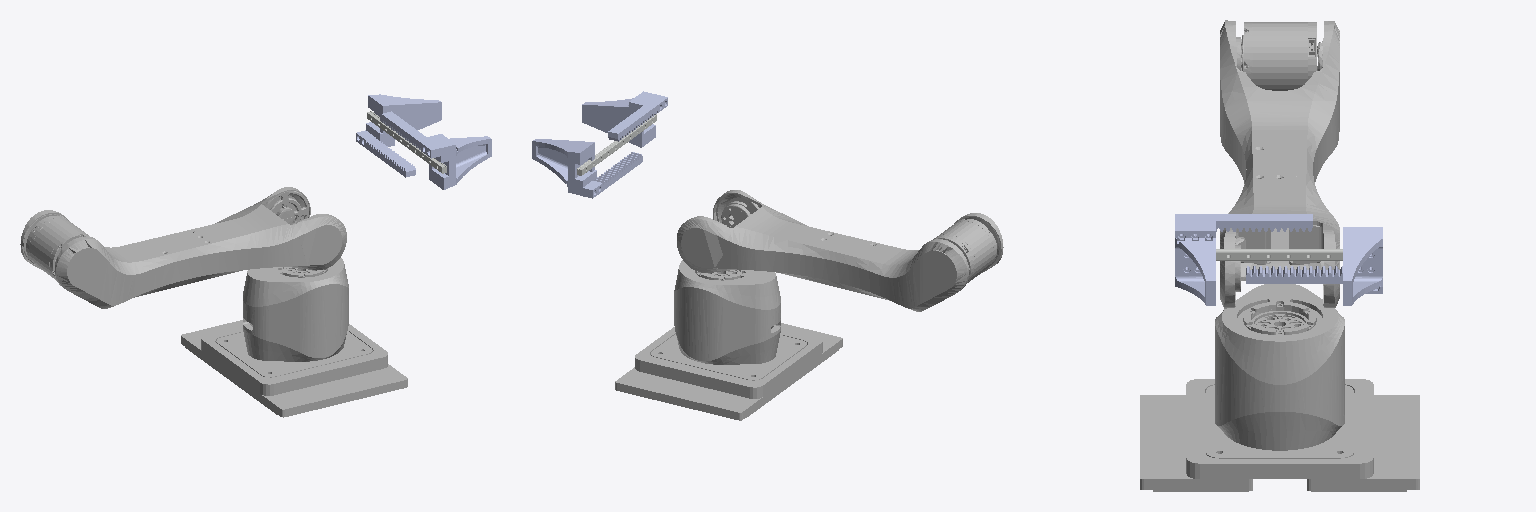
URDF robot description (alicia_m_v1_1_gripper_100mm):
<?xml version="1.0" encoding="utf-8"?>
<!-- This URDF was automatically created by SolidWorks to URDF Exporter! Originally created by Stephen Brawner (brawner@gmail.com) 
     Commit Version: 1.6.0-4-g7f85cfe  Build Version: 1.6.7995.38578
     For more information, please see http://wiki.ros.org/sw_urdf_exporter -->
<robot
  name="alicia_m_v1_1_gripper_100mm">
   <mujoco>
    <compiler meshdir="../../meshes/Alicia_M_v1_1" discardvisual="false" />
  </mujoco>
  <link
    name="base_link">
    <inertial>
      <origin
        xyz="-0.0074155 8.4202E-06 0.038118"
        rpy="0 0 0" />
      <mass
        value="2.5385" />
      <inertia
        ixx="0.0058527"
        ixy="2.114E-07"
        ixz="1.4479E-06"
        iyy="0.0045151"
        iyz="3.0868E-08"
        izz="0.0084155" />
    </inertial>
    <visual>
      <origin
        xyz="0 0 0"
        rpy="0 0 0" />
      <geometry>
        <mesh
          filename="../../meshes/Alicia_M_v1_1/base_link.STL" />
      </geometry>
      <material
        name="">
        <color
          rgba="0.75294 0.75294 0.75294 1" />
      </material>
    </visual>
    <collision>
      <origin
        xyz="0 0 0"
        rpy="0 0 0" />
      <geometry>
        <mesh
          filename="../../meshes/Alicia_M_v1_1/base_link.STL" />
      </geometry>
    </collision>
  </link>
  <link
    name="link1">
    <inertial>
      <origin
        xyz="0.00037898 -0.0010139 0.039387"
        rpy="0 0 0" />
      <mass
        value="0.54365" />
      <inertia
        ixx="0.00018974"
        ixy="-3.0439E-07"
        ixz="-2.5092E-07"
        iyy="0.00022251"
        iyz="4.4259E-07"
        izz="0.0002033" />
    </inertial>
    <visual>
      <origin
        xyz="0 0 0"
        rpy="0 0 0" />
      <geometry>
        <mesh
          filename="../../meshes/Alicia_M_v1_1/link1.STL" />
      </geometry>
      <material
        name="">
        <color
          rgba="0.75294 0.75294 0.75294 1" />
      </material>
    </visual>
    <collision>
      <origin
        xyz="0 0 0"
        rpy="0 0 0" />
      <geometry>
        <mesh
          filename="../../meshes/Alicia_M_v1_1/link1.STL" />
      </geometry>
    </collision>
  </link>
  <joint
    name="joint1"
    type="revolute">
    <origin
      xyz="0 0 0.10705"
      rpy="0 0 0" />
    <parent
      link="base_link" />
    <child
      link="link1" />
    <axis
      xyz="0 0 -1" />
    <limit
      lower="-2.75"
      upper="2.75"
      effort="5"
      velocity="10" />
  </joint>
  <link
    name="link2">
    <inertial>
      <origin
        xyz="-0.19722 0.016179 0.00075589"
        rpy="0 0 0" />
      <mass
        value="1.1153" />
      <inertia
        ixx="0.00057637"
        ixy="0.00022961"
        ixz="-1.956E-07"
        iyy="0.0033441"
        iyz="6.7003E-07"
        izz="0.0032279" />
    </inertial>
    <visual>
      <origin
        xyz="0 0 0"
        rpy="0 0 0" />
      <geometry>
        <mesh
          filename="../../meshes/Alicia_M_v1_1/link2.STL" />
      </geometry>
      <material
        name="">
        <color
          rgba="0.75294 0.75294 0.75294 1" />
      </material>
    </visual>
    <collision>
      <origin
        xyz="0 0 0"
        rpy="0 0 0" />
      <geometry>
        <mesh
          filename="../../meshes/Alicia_M_v1_1/link2.STL" />
      </geometry>
    </collision>
  </link>
  <joint
    name="joint2"
    type="revolute">
    <origin
      xyz="0 0 0.046"
      rpy="1.5708 0 0" />
    <parent
      link="link1" />
    <child
      link="link2" />
    <axis
      xyz="0 0 -1" />
    <limit
      lower="0"
      upper="3.14"
      effort="5"
      velocity="10" />
  </joint>
  <link
    name="link3">
    <inertial>
      <origin
        xyz="0.026259 -0.064912 -0.00065987"
        rpy="0 0 0" />
      <mass
        value="0.4356" />
      <inertia
        ixx="0.00012982"
        ixy="9.5271E-06"
        ixz="-6.8812E-08"
        iyy="0.0001789"
        iyz="1.5081E-07"
        izz="0.00014855" />
    </inertial>
    <visual>
      <origin
        xyz="0 0 0"
        rpy="0 0 0" />
      <geometry>
        <mesh
          filename="../../meshes/Alicia_M_v1_1/link3.STL" />
      </geometry>
      <material
        name="">
        <color
          rgba="0.75294 0.75294 0.75294 1" />
      </material>
    </visual>
    <collision>
      <origin
        xyz="0 0 0"
        rpy="0 0 0" />
      <geometry>
        <mesh
          filename="../../meshes/Alicia_M_v1_1/link3.STL" />
      </geometry>
    </collision>
  </link>
  <joint
    name="joint3"
    type="revolute">
    <origin
      xyz="-0.28185 0.040324 0"
      rpy="0 0 1.5708" />
    <parent
      link="link2" />
    <child
      link="link3" />
    <axis
      xyz="0 0 -1" />
    <limit
      lower="-3.14"
      upper="0"
      effort="5"
      velocity="10" />
  </joint>
  <link
    name="link4">
    <inertial>
      <origin
        xyz="3.9183E-06 0.001144 0.11644"
        rpy="0 0 0" />
      <mass
        value="0.57265" />
      <inertia
        ixx="0.00034557"
        ixy="-1.3549E-07"
        ixz="-1.4243E-09"
        iyy="0.00037178"
        iyz="-7.3926E-08"
        izz="0.00019935" />
    </inertial>
    <visual>
      <origin
        xyz="0 0 0"
        rpy="0 0 0" />
      <geometry>
        <mesh
          filename="../../meshes/Alicia_M_v1_1/link4.STL" />
      </geometry>
      <material
        name="">
        <color
          rgba="0.75294 0.75294 0.75294 1" />
      </material>
    </visual>
    <collision>
      <origin
        xyz="0 0 0"
        rpy="0 0 0" />
      <geometry>
        <mesh
          filename="../../meshes/Alicia_M_v1_1/link4.STL" />
      </geometry>
    </collision>
  </link>
  <joint
    name="joint4"
    type="revolute">
    <origin
      xyz="0.028563 -0.091416 0"
      rpy="-1.5708 0 -3.1412" />
    <parent
      link="link3" />
    <child
      link="link4" />
    <axis
      xyz="-0.00034722 0 -1" />
    <limit
      lower="-1.57"
      upper="1.57"
      effort="5"
      velocity="10" />
  </joint>
  <link
    name="link5">
    <inertial>
      <origin
        xyz="-0.0001129 0.054381 0.0022373"
        rpy="0 0 0" />
      <mass
        value="0.38891" />
      <inertia
        ixx="0.00010415"
        ixy="-1.2554E-07"
        ixz="-1.4534E-07"
        iyy="0.0001484"
        iyz="5.2027E-08"
        izz="0.00011043" />
    </inertial>
    <visual>
      <origin
        xyz="0 0 0"
        rpy="0 0 0" />
      <geometry>
        <mesh
          filename="../../meshes/Alicia_M_v1_1/link5.STL" />
      </geometry>
      <material
        name="">
        <color
          rgba="0.89804 0.91765 0.92941 1" />
      </material>
    </visual>
    <collision>
      <origin
        xyz="0 0 0"
        rpy="0 0 0" />
      <geometry>
        <mesh
          filename="../../meshes/Alicia_M_v1_1/link5.STL" />
      </geometry>
    </collision>
  </link>
  <joint
    name="joint5"
    type="revolute">
    <origin
      xyz="-8.0556E-05 0 0.151"
      rpy="1.5708 0.00034722 0" />
    <parent
      link="link4" />
    <child
      link="link5" />
    <axis
      xyz="0 0 -1" />
    <limit
      lower="-1.57"
      upper="1.57"
      effort="5"
      velocity="10" />
  </joint>
  <link
    name="link6">
    <inertial>
      <origin
        xyz="-0.00011097 -0.00066921 0.038228"
        rpy="0 0 0" />
      <mass
        value="0.35658" />
      <inertia
        ixx="0.00018353"
        ixy="5.0323E-08"
        ixz="-1.1884E-07"
        iyy="9.5615E-05"
        iyz="-1.2974E-08"
        izz="0.00021713" />
    </inertial>
    <visual>
      <origin
        xyz="0 0 0"
        rpy="0 0 0" />
      <geometry>
        <mesh
          filename="../../meshes/Alicia_M_v1_1/link6.STL" />
      </geometry>
      <material
        name="">
        <color
          rgba="0.8902 0.8902 0.91373 1" />
      </material>
    </visual>
    <collision>
      <origin
        xyz="0 0 0"
        rpy="0 0 0" />
      <geometry>
        <mesh
          filename="../../meshes/Alicia_M_v1_1/link6.STL" />
      </geometry>
    </collision>
  </link>
  <joint
    name="joint6"
    type="revolute">
    <origin
      xyz="5.2431E-05 0.081 0"
      rpy="-1.5708 0 0.00034722" />
    <parent
      link="link5" />
    <child
      link="link6" />
    <axis
      xyz="-0.00034722 0 -1" />
    <limit
      lower="-2.75"
      upper="2.75"
      effort="5"
      velocity="10" />
  </joint>
  <link
    name="grasp_base">
    <inertial>
      <origin
        xyz="9.5381E-06 -0.000675 0.02747"
        rpy="0 0 0" />
      <mass
        value="0.03877" />
      <inertia
        ixx="7.8211E-05"
        ixy="1.3681E-18"
        ixz="1.3642E-11"
        iyy="2.782E-07"
        iyz="1.2253E-19"
        izz="7.825E-05" />
    </inertial>
    <visual>
      <origin
        xyz="0 0 0"
        rpy="0 0 0" />
      <geometry>
        <mesh
          filename="../../meshes/Alicia_M_v1_1/grasp_base.STL" />
      </geometry>
      <material
        name="">
        <color
          rgba="0.83137 0.83922 0.83137 1" />
      </material>
    </visual>
    <collision>
      <origin
        xyz="0 0 0"
        rpy="0 0 0" />
      <geometry>
        <mesh
          filename="../../meshes/Alicia_M_v1_1/grasp_base.STL" />
      </geometry>
    </collision>
  </link>
  <joint
    name="grasp_base_joint"
    type="fixed">
    <origin
      xyz="-3.3333E-05 0 0.055"
      rpy="0 0 0" />
    <parent
      link="link6" />
    <child
      link="grasp_base" />
    <axis
      xyz="0 0 0" />
  </joint>
  <link
    name="link7">
    <inertial>
      <origin
        xyz="-0.0062638 -0.056089 0.0037593"
        rpy="0 0 0" />
      <mass
        value="0.048674" />
      <inertia
        ixx="2.5291E-05"
        ixy="-1.0647E-06"
        ixz="1.8963E-07"
        iyy="1.9457E-05"
        iyz="2.7404E-06"
        izz="1.9529E-05" />
    </inertial>
    <visual>
      <origin
        xyz="0 0 0"
        rpy="0 0 0" />
      <geometry>
        <mesh
          filename="../../meshes/Alicia_M_v1_1/link7.STL" />
      </geometry>
      <material
        name="">
        <color
          rgba="0.79608 0.82353 0.93725 1" />
      </material>
    </visual>
    <collision>
      <origin
        xyz="0 0 0"
        rpy="0 0 0" />
      <geometry>
        <mesh
          filename="../../meshes/Alicia_M_v1_1/link7.STL" />
      </geometry>
    </collision>
  </link>
  <joint
    name="grasp_joint_right"
    type="prismatic">
    <origin
      xyz="3.3333E-05 -0.048175 0.096"
      rpy="1.5708 0.00034722 0" />
    <parent
      link="grasp_base" />
    <child
      link="link7" />
    <axis
      xyz="0 0 -1" />
    <limit
      lower="0"
      upper="0.05"
      effort="5"
      velocity="10" />
  </joint>
  <link
    name="link8">
    <inertial>
      <origin
        xyz="0.0062638 -0.056089 -0.0037593"
        rpy="0 0 0" />
      <mass
        value="0.048674" />
      <inertia
        ixx="2.5291E-05"
        ixy="1.0647E-06"
        ixz="1.8963E-07"
        iyy="1.9457E-05"
        iyz="-2.7404E-06"
        izz="1.9529E-05" />
    </inertial>
    <visual>
      <origin
        xyz="0 0 0"
        rpy="0 0 0" />
      <geometry>
        <mesh
          filename="../../meshes/Alicia_M_v1_1/link8.STL" />
      </geometry>
      <material
        name="">
        <color
          rgba="0.79608 0.82353 0.93725 1" />
      </material>
    </visual>
    <collision>
      <origin
        xyz="0 0 0"
        rpy="0 0 0" />
      <geometry>
        <mesh
          filename="../../meshes/Alicia_M_v1_1/link8.STL" />
      </geometry>
    </collision>
  </link>
  <joint
    name="grasp_joint_left"
    type="prismatic">
    <origin
      xyz="3.3333E-05 0.046825 0.096"
      rpy="1.5708 0.00034722 0" />
    <parent
      link="grasp_base" />
    <child
      link="link8" />
    <axis
      xyz="0 0 -1" />
    <limit
      lower="-0.05"
      upper="0"
      effort="5"
      velocity="10" />
  </joint>

</robot>

--- Render facts (derived) ---
Views: 3 orthographic renders of the robot side by side, from view 1: azimuth 30°, elevation 25°; view 2: azimuth 150°, elevation 25°; view 3: azimuth 270°, elevation 25°.
Model alicia_m_v1_1_gripper_100mm with 10 links and 9 joints (6 revolute, 2 prismatic, 1 fixed), rooted at base_link, posed every joint at zero.
Links seen in each view (by area): view 1: base_link, link2, link7, link8, grasp_base; view 2: base_link, link2, link8, link7, grasp_base; view 3: base_link, link2, link7, link8, grasp_base.
Link boxes in pixels (x1,y1,x2,y2): base_link: (181,258,407,417); link2: (20,187,346,308); link7: (381,111,491,189); link8: (356,94,441,177); grasp_base: (367,111,446,173); base_link: (615,260,842,420); link2: (677,190,1003,311); link8: (532,139,642,198); link7: (582,91,667,147); grasp_base: (577,114,656,175); base_link: (1140,284,1419,491); link2: (1220,20,1339,308); link7: (1175,214,1312,305); link8: (1246,227,1382,305); grasp_base: (1216,249,1342,260).
Size in the robot's own frame: 0.5045 by 0.21 by 0.2481 metres.
5 mesh visuals loaded from 10 distinct referenced files (5 binary STL); not drawn: 5 (reference not matched to a file when rendering).
